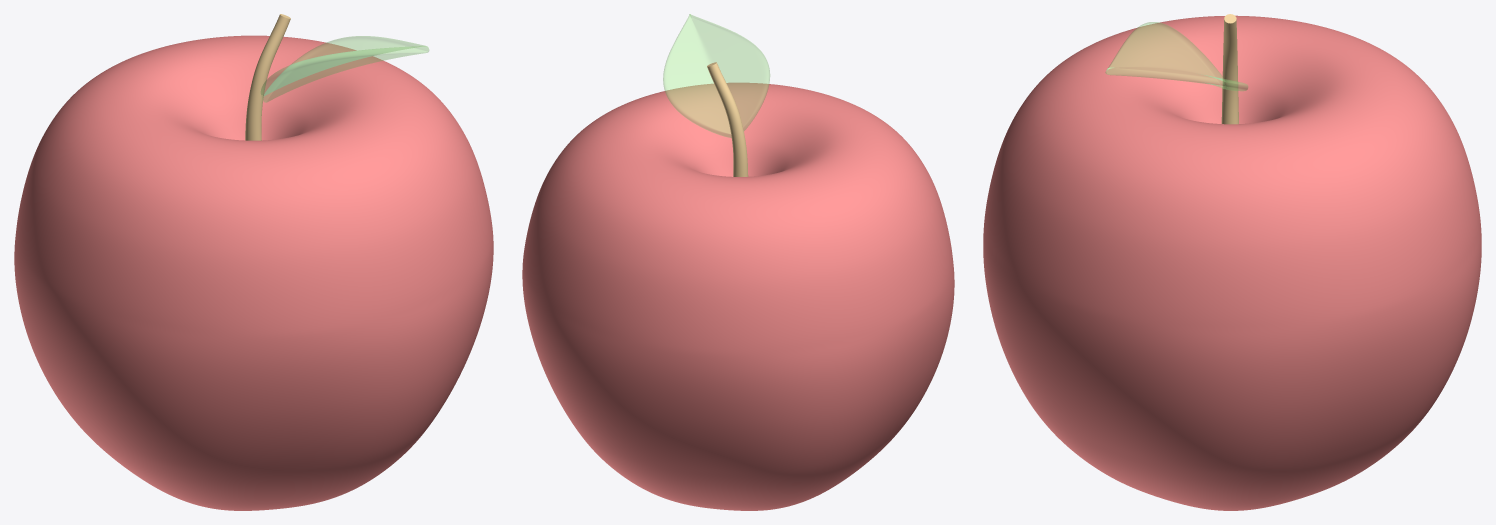
3 views of the same model, side by side, from view 1: azimuth 30°, elevation 25°; view 2: azimuth 150°, elevation 25°; view 3: azimuth 270°, elevation 25° (orthographic). The views are drawn at different scales.
Visible parts, largest first — view 1: Apple, Leaf, Stem; view 2: Apple, Leaf, Stem; view 3: Apple, Leaf, Stem.
Boxes of the visible parts, bbox=[...] form: Apple: bbox=[14, 35, 493, 510]; Leaf: bbox=[261, 36, 428, 102]; Stem: bbox=[245, 14, 290, 140]; Apple: bbox=[522, 82, 954, 510]; Leaf: bbox=[663, 14, 769, 137]; Stem: bbox=[707, 62, 748, 176]; Apple: bbox=[983, 15, 1481, 510]; Leaf: bbox=[1105, 22, 1247, 90]; Stem: bbox=[1221, 14, 1238, 124].
Size of the model in its own units: 2.04 by 2.15 by 2.04.
